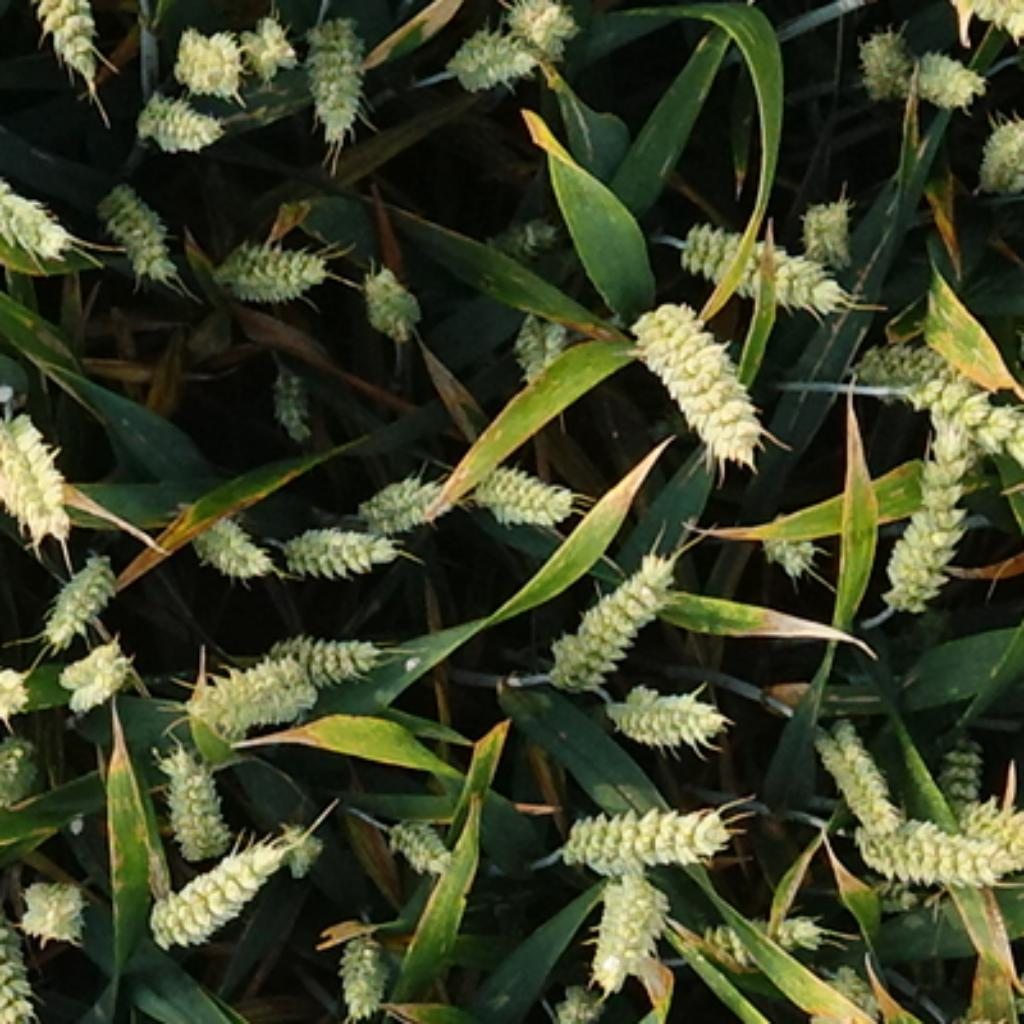0-0: (867, 384, 995, 611), (622, 281, 773, 460), (842, 322, 1018, 448), (532, 545, 683, 686), (181, 624, 358, 732), (665, 204, 847, 307), (140, 826, 291, 942), (542, 785, 742, 870), (857, 793, 1010, 902), (0, 396, 78, 551), (913, 709, 993, 847), (583, 860, 673, 980), (808, 711, 898, 824), (204, 222, 330, 302), (599, 670, 729, 744), (296, 5, 371, 133), (10, 2, 107, 97), (92, 171, 179, 276), (156, 737, 235, 852), (238, 622, 386, 683), (691, 903, 821, 970), (463, 448, 576, 522), (0, 145, 71, 258), (38, 542, 122, 637), (276, 509, 394, 573), (442, 15, 542, 87), (330, 919, 399, 1013), (353, 463, 448, 529), (184, 501, 271, 573), (130, 81, 222, 148), (56, 637, 138, 711), (901, 33, 985, 104), (166, 17, 245, 92), (0, 898, 46, 1024), (12, 865, 89, 936), (353, 256, 424, 332), (752, 512, 829, 581), (481, 212, 568, 273), (504, 302, 573, 378), (384, 806, 458, 870), (855, 17, 916, 94), (967, 104, 1021, 189), (813, 965, 890, 1024), (963, 809, 1024, 878), (501, 2, 583, 53), (796, 186, 857, 253), (0, 721, 51, 801), (263, 358, 317, 432), (240, 10, 294, 71), (268, 814, 322, 872), (550, 977, 611, 1024), (973, 403, 1020, 464), (0, 624, 28, 714), (962, 2, 1024, 40)
